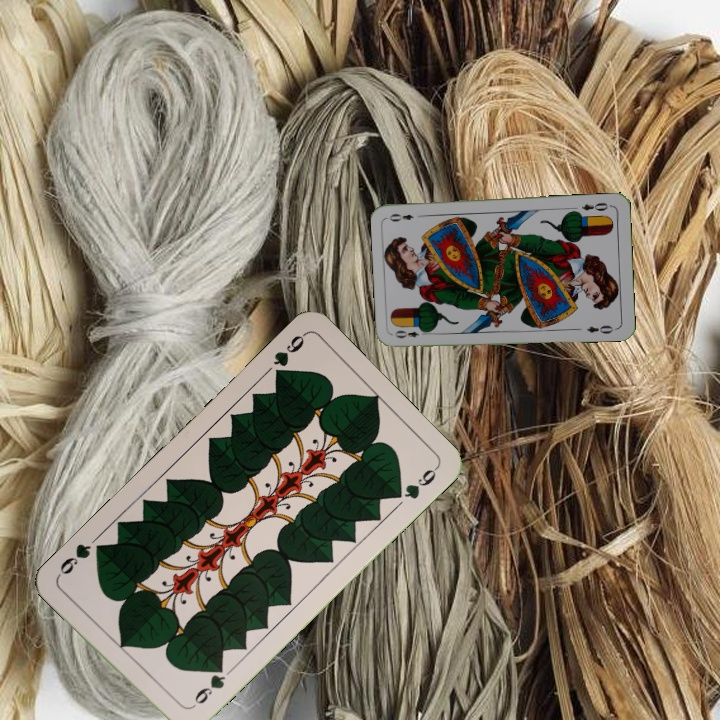EO: (391, 325, 431, 341), (578, 198, 614, 214)
G9: (185, 661, 228, 712), (268, 329, 308, 383)
